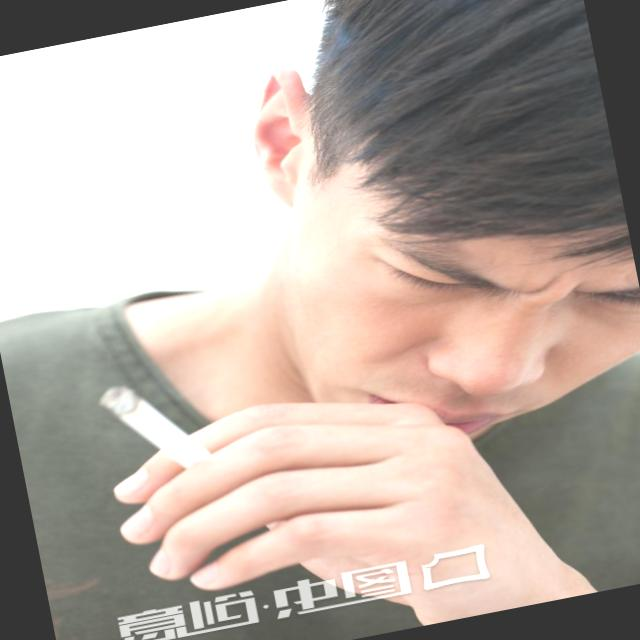smoke: (89, 342, 298, 572)
